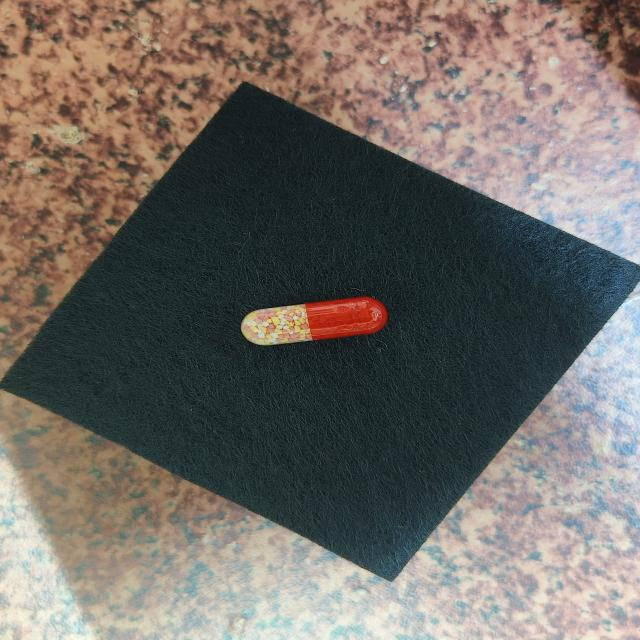Intact Capsule: (241, 296, 388, 345)
